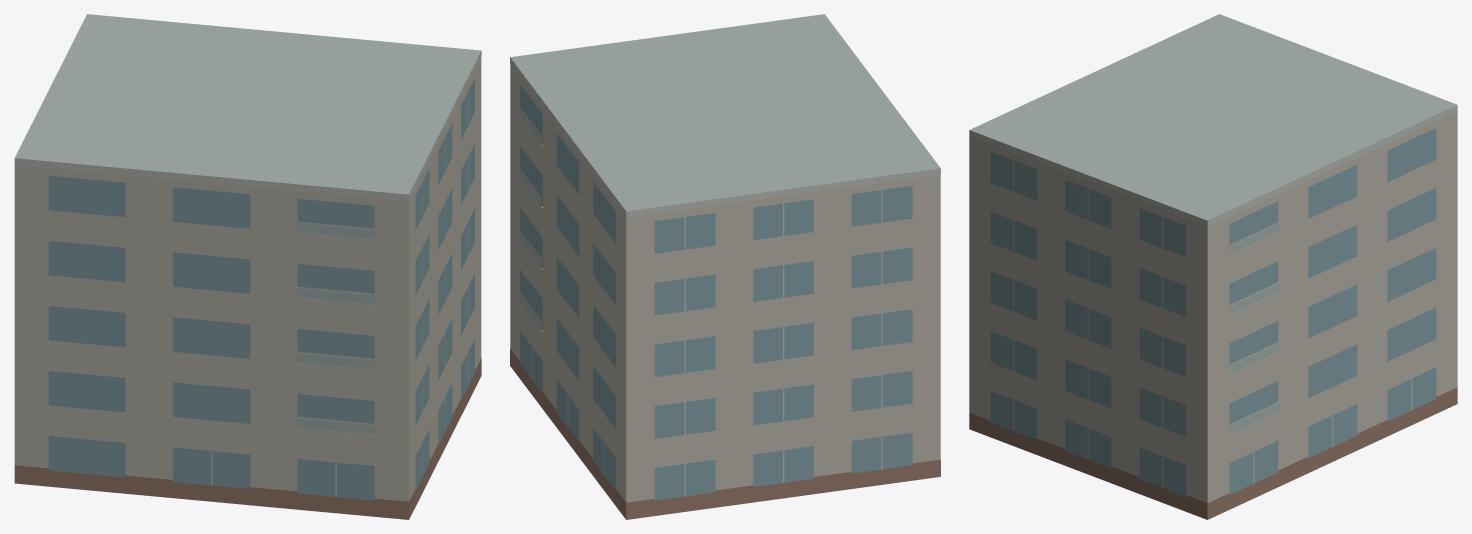
The model's file is survey-upis-32712099.glb.
3 renders of one model, left to right at view 1: azimuth 30°, elevation 25°; view 2: azimuth 150°, elevation 25°; view 3: azimuth 270°, elevation 25°, orthographic. The views are drawn at different scales.
Visible parts, largest first — view 1: survey-upis-32712099.tmp; view 2: survey-upis-32712099.tmp; view 3: survey-upis-32712099.tmp.
Boxes of the visible parts, bbox=[...] form: survey-upis-32712099.tmp: bbox=[14, 14, 481, 519]; survey-upis-32712099.tmp: bbox=[510, 14, 940, 519]; survey-upis-32712099.tmp: bbox=[969, 14, 1457, 519].
Size of the model in its own units: 17.34 by 11.7 by 17.31.
